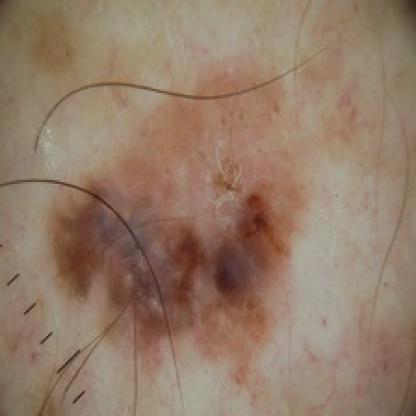malignant: (41, 84, 325, 342)
